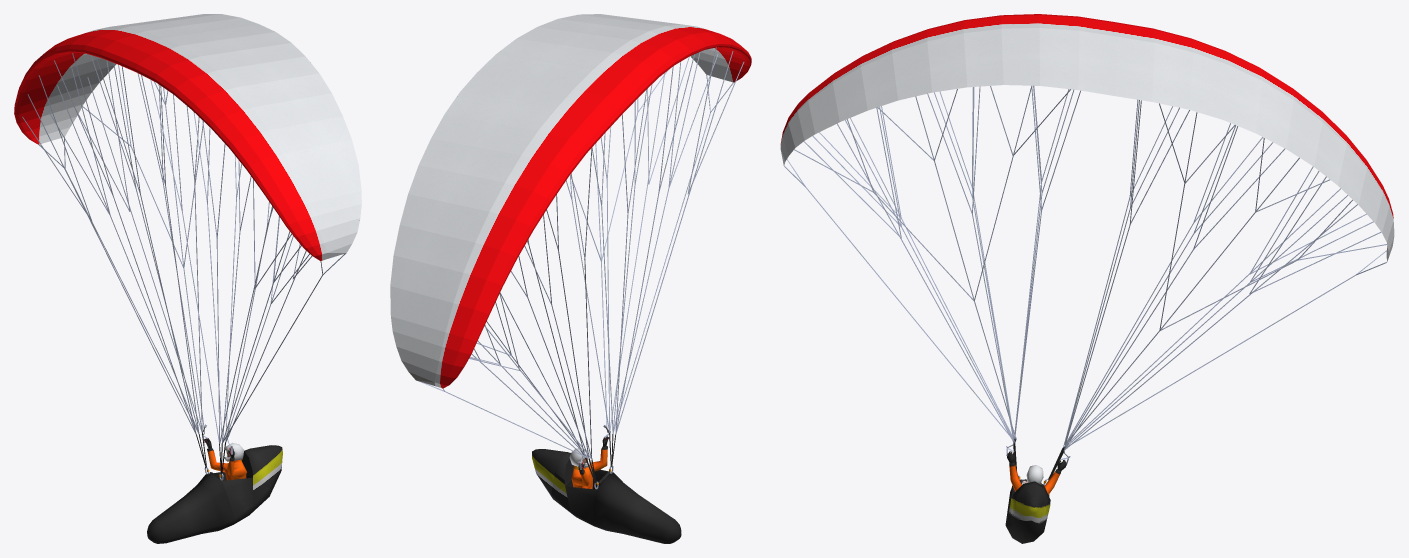
The model's file is paraglider-red-ridge-cbj_LOD01.gltf.
The picture shows the model from 3 angles, left to right: view 1: azimuth 30°, elevation 25°; view 2: azimuth 150°, elevation 25°; view 3: azimuth 270°, elevation 25°; orthographic projection. The views are drawn at different scales.
Visible parts, largest first — view 1: glider00; view 2: glider00; view 3: glider00.
Boxes of the visible parts, x1=… form: glider00: x1=14, y1=14, x2=361, y2=543; glider00: x1=390, y1=14, x2=751, y2=543; glider00: x1=780, y1=14, x2=1394, y2=543.
Size of what is drawn, in the model's own units: 2.82 by 8.2 by 9.06.
